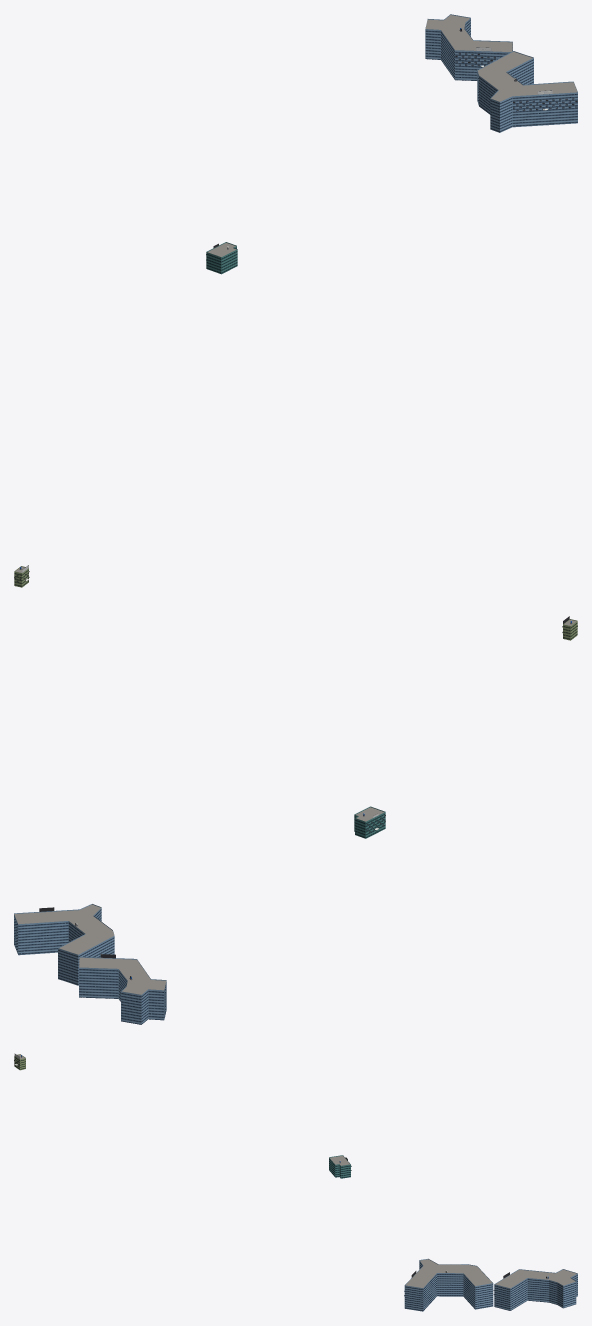
The model's file is hotels-27362-14870.1fa3bd26.glb.
3 views of the same model, one above another, from view 1: azimuth 30°, elevation 25°; view 2: azimuth 210°, elevation 25°; view 3: azimuth 270°, elevation 25° (orthographic). The views are drawn at different scales.
Bounding box in the file's own units: 998 × 128 × 780.
Materials: 4 (2 with a texture image).
